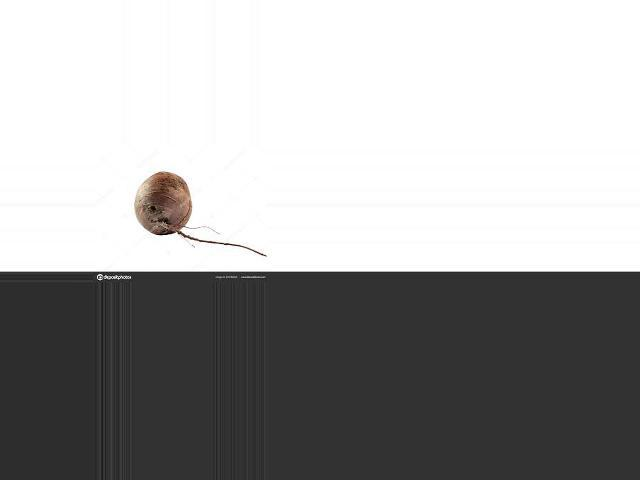beet: (135, 172, 267, 257)
